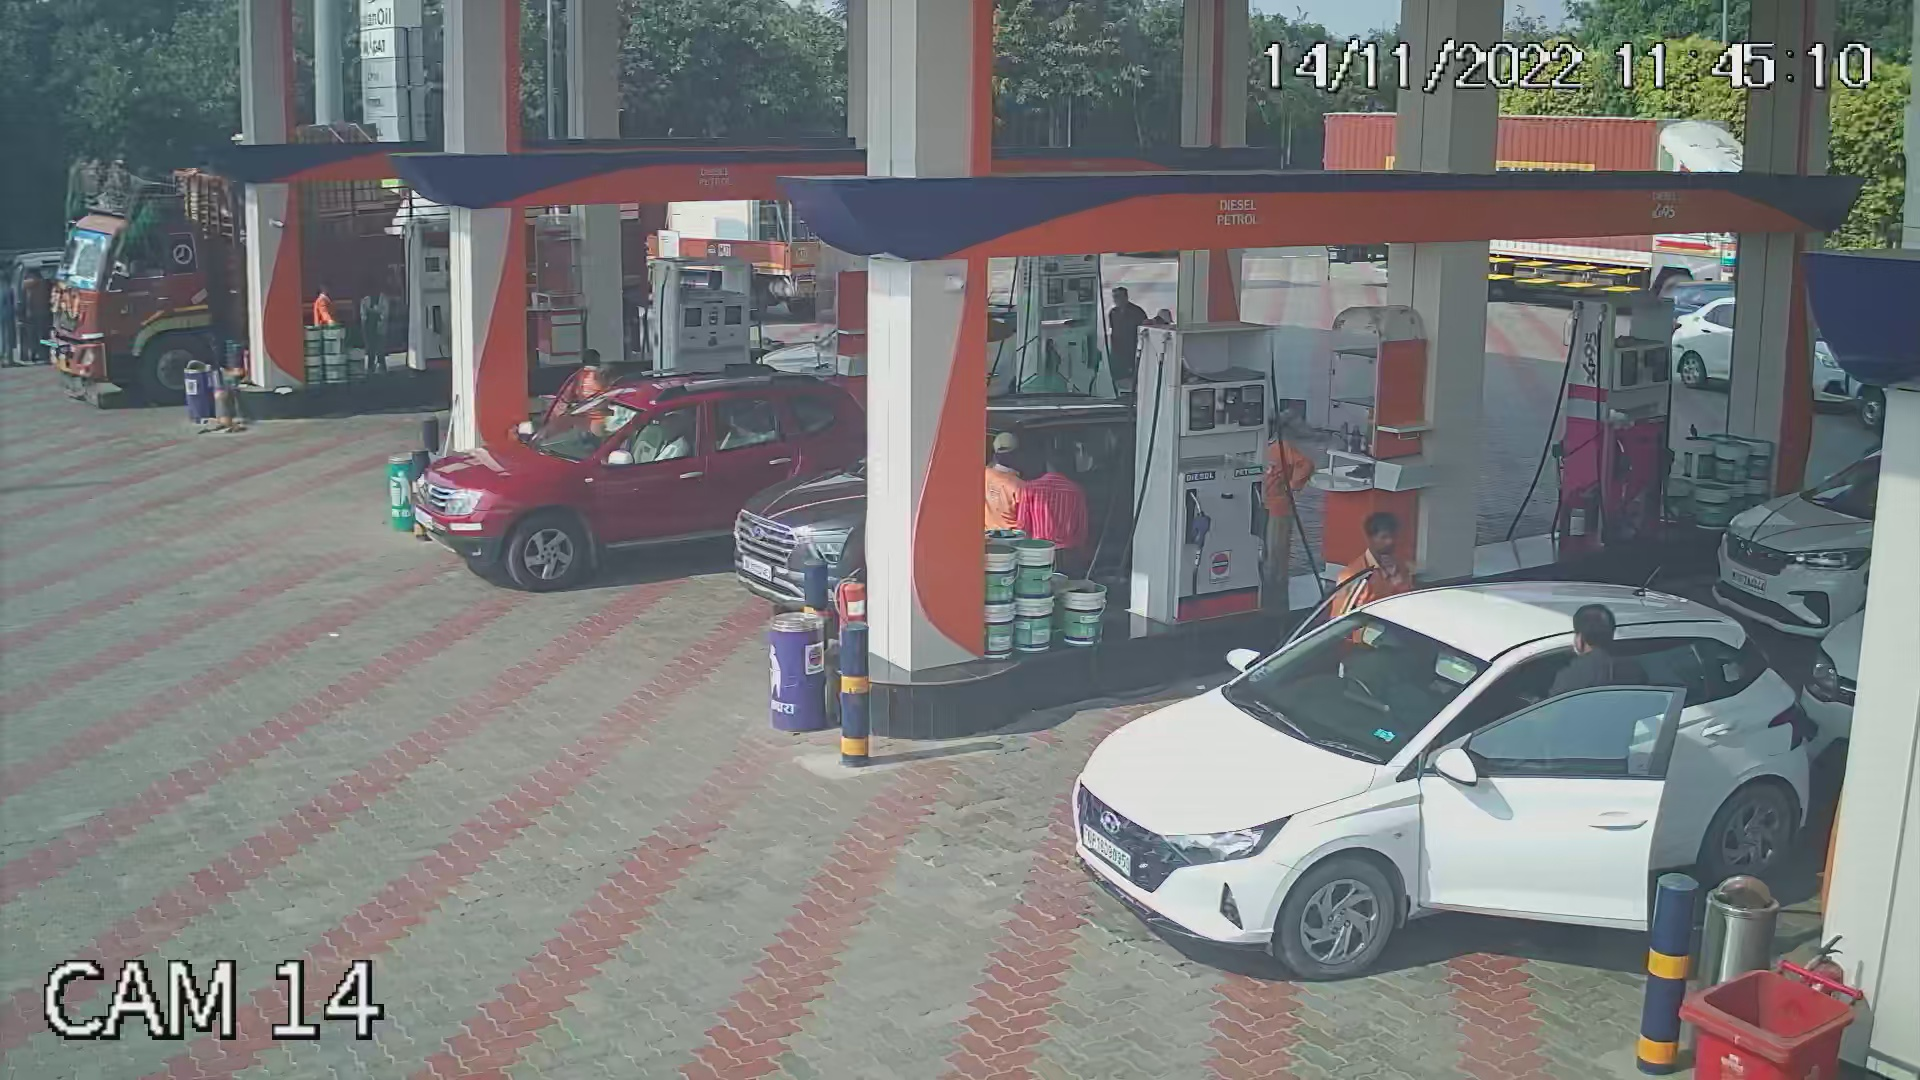Car: (1067, 538, 1840, 990), (397, 348, 891, 582), (1702, 438, 1884, 641), (723, 426, 865, 634), (1800, 593, 1879, 804), (1669, 273, 1731, 394)
HMV: (47, 135, 479, 410), (1316, 100, 1753, 161)
Others: (1275, 400, 1316, 593), (982, 419, 1034, 539)
